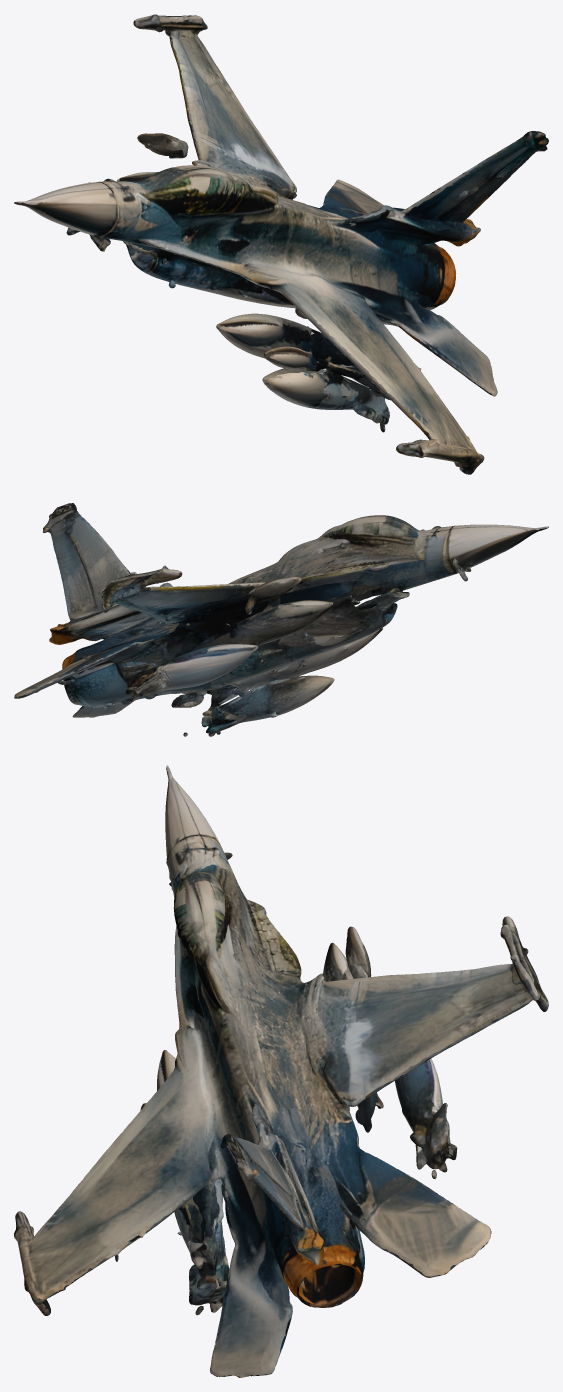
File: fighter.glb
3 views of the same model, one above another, from view 1: azimuth 30°, elevation 25°; view 2: azimuth 150°, elevation 25°; view 3: azimuth 270°, elevation 25° (orthographic). The views are drawn at different scales.
Parts seen in each view (by area): view 1: textured.obj; view 2: textured.obj; view 3: textured.obj.
Boxes of the visible parts, left/top/right/bottom form: textured.obj: left=14, top=14, right=548, bottom=474; textured.obj: left=14, top=503, right=548, bottom=736; textured.obj: left=14, top=765, right=548, bottom=1377.
Bounding box in the file's own units: 1.88 × 1.05 × 1.45.
Materials: 1 (1 with a texture image).
